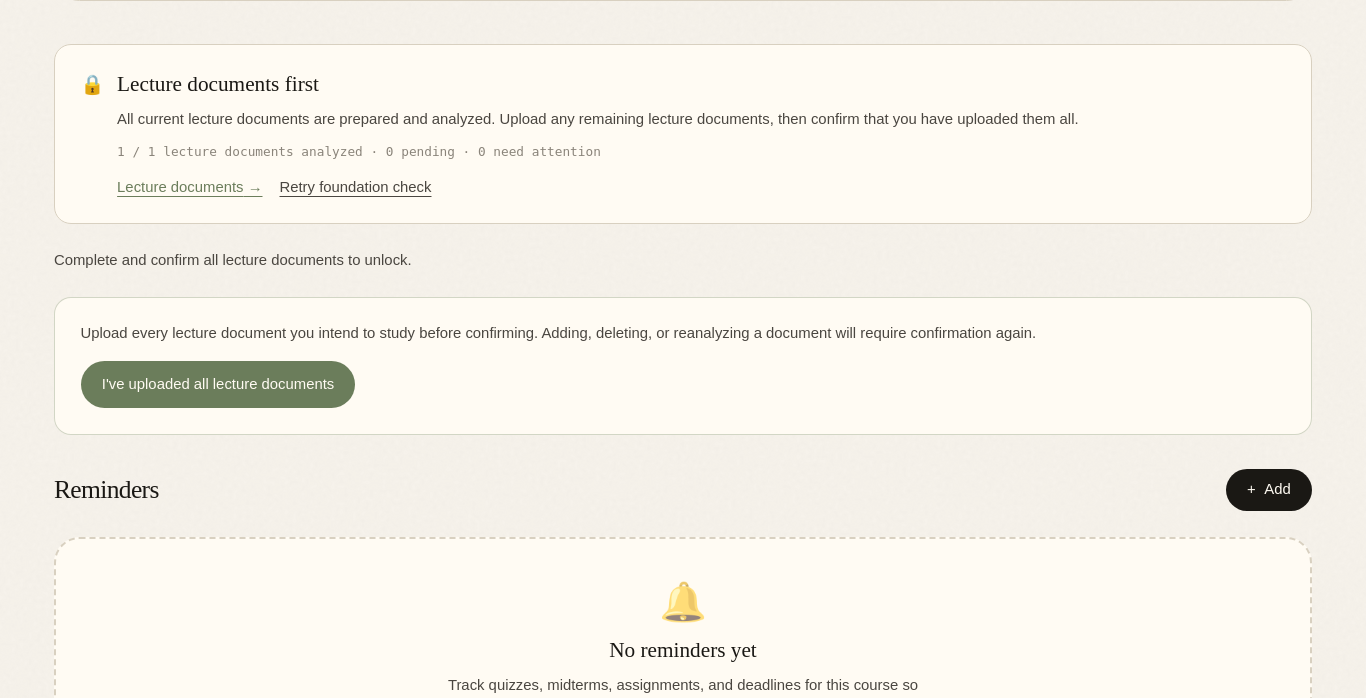
Test case: course document foundation › refreshes a stale confirmation and keeps study tools locked
This screenshot has width=1366, height=698.
(page scrolled)
What coordinates should you click on to do the following:
click the button "I've uploaded all lecture documents"
I would click on:
 (218, 385)
Its box is [80, 361, 356, 408].
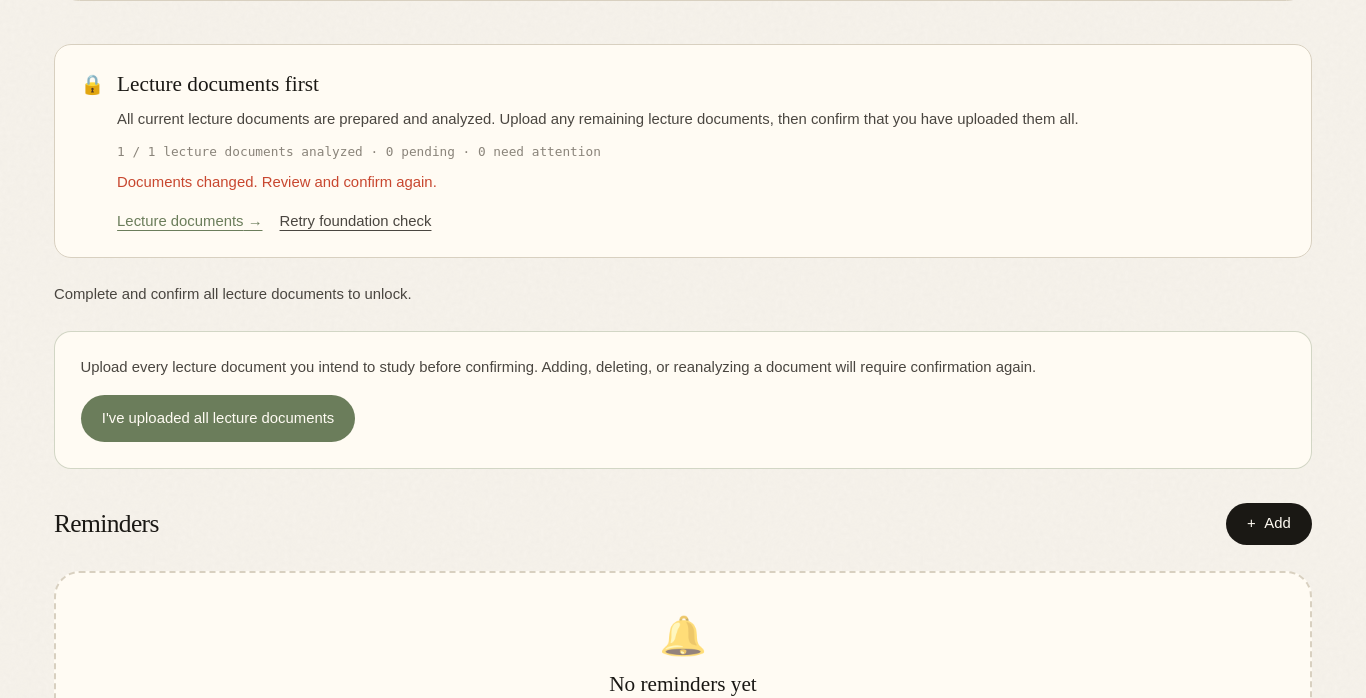
Now the text "Documents changed. Review and confirm again." is shown, box [117, 174, 437, 190]
What coordinates should you click on to do the following:
click the button "I've uploaded all lecture documents"
I would click on:
 (218, 419)
Its box is [80, 395, 356, 442].
(page scrolled)
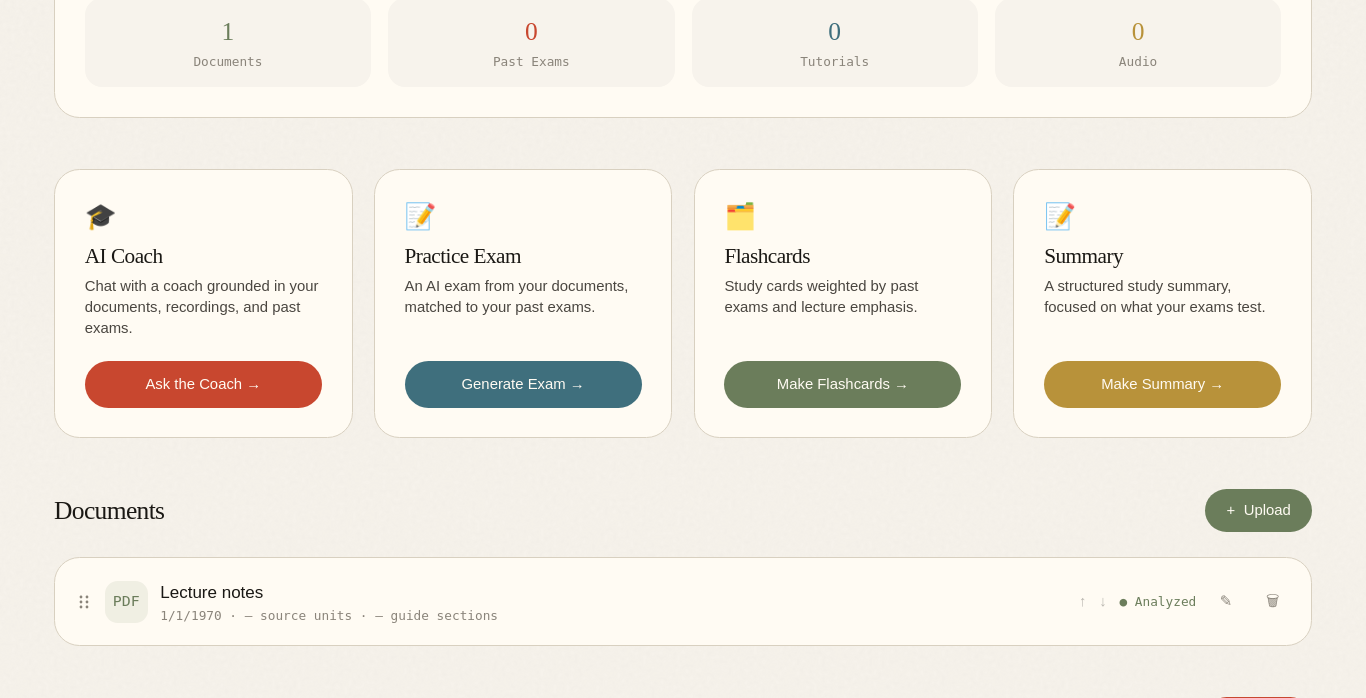
Now the link "Generate Exam →" is shown, box [405, 361, 642, 408]
